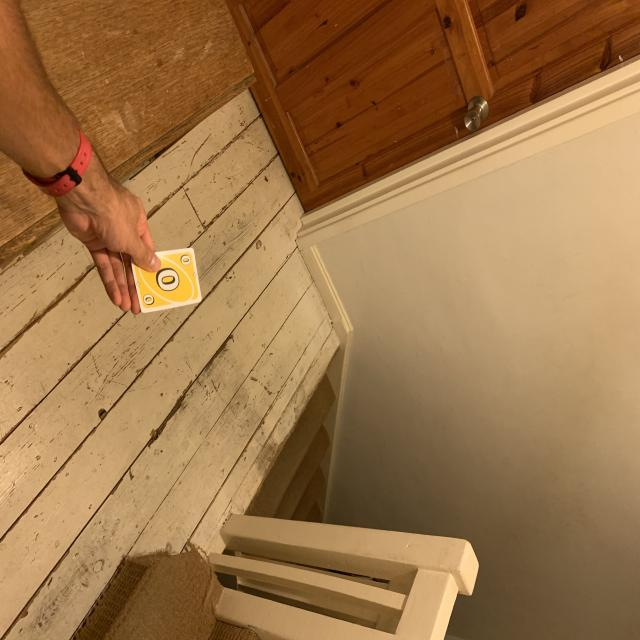lyellow-0: (178, 253, 192, 268)
